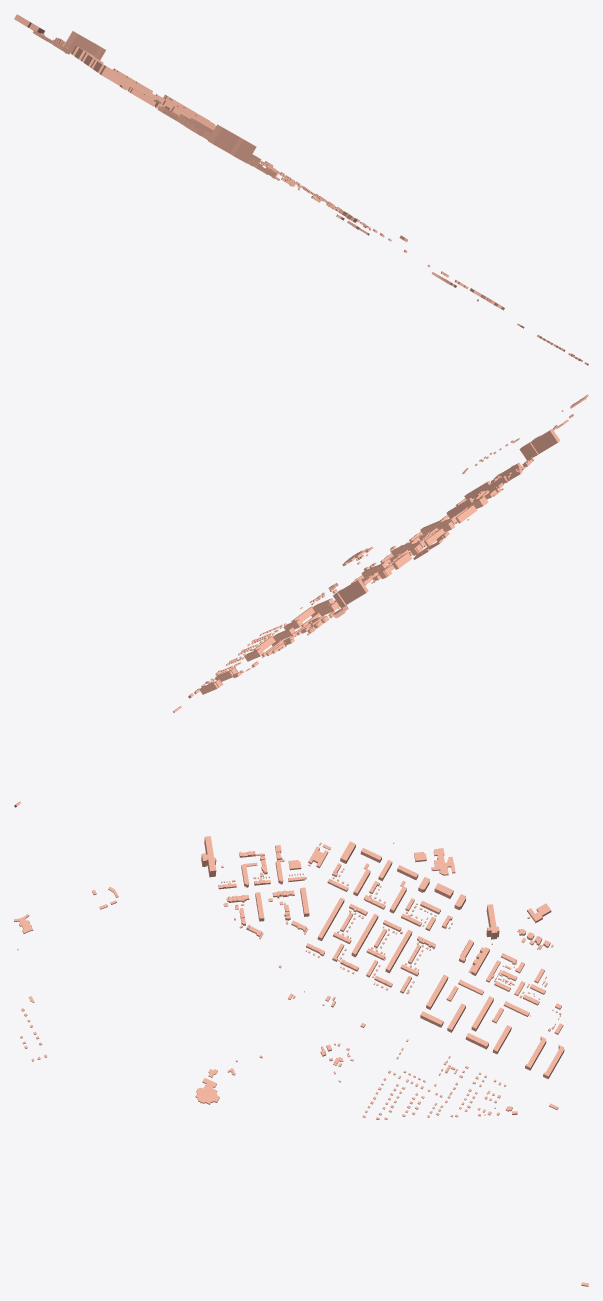
3 renders of one model, top to bottom at view 1: azimuth 30°, elevation 25°; view 2: azimuth 150°, elevation 25°; view 3: azimuth 270°, elevation 25°, orthographic. The views are drawn at different scales.
Bounding box in the file's own units: 850 × 721 × 1270.
